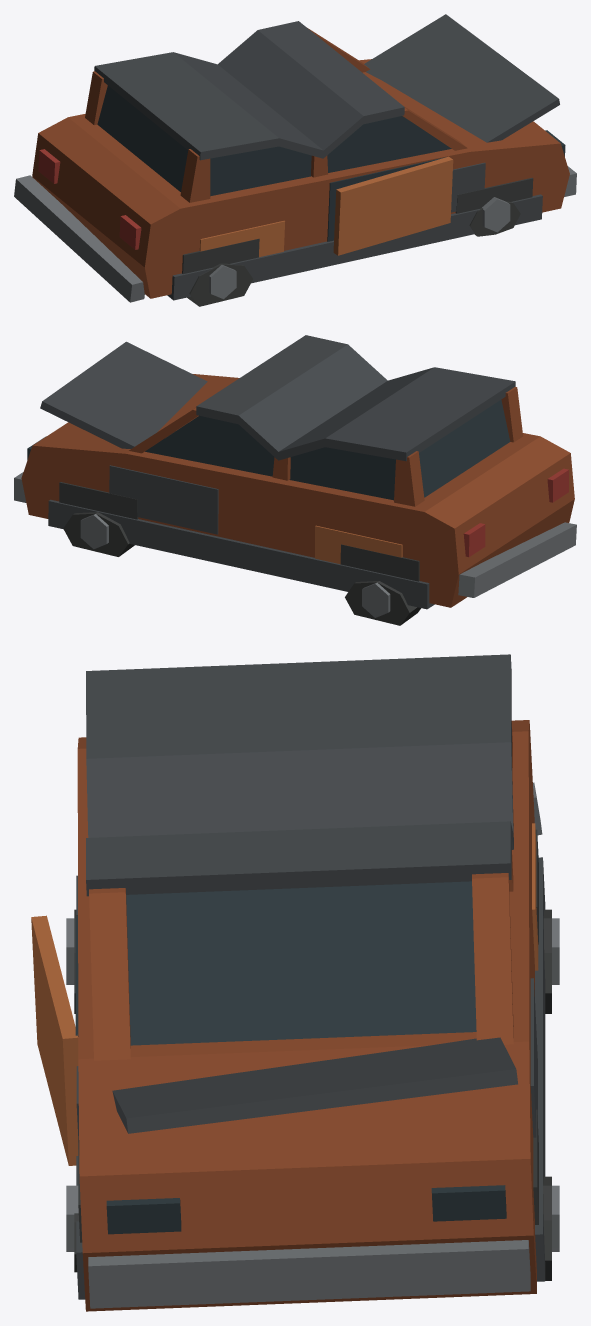
File: wrecked_car.glb
3 renders of one model, top to bottom at view 1: azimuth 30°, elevation 25°; view 2: azimuth 150°, elevation 25°; view 3: azimuth 270°, elevation 25°, orthographic. The views are drawn at different scales.
Parts seen in each view (by area): view 1: wrecked_car_mesh; view 2: wrecked_car_mesh; view 3: wrecked_car_mesh.
Part boxes in pixels (x1,y1,x2,y2): wrecked_car_mesh: [14, 14, 576, 306]; wrecked_car_mesh: [14, 335, 576, 625]; wrecked_car_mesh: [31, 654, 559, 1311].
Bounding box in the file's own units: 3.96 × 1.35 × 2.01.
